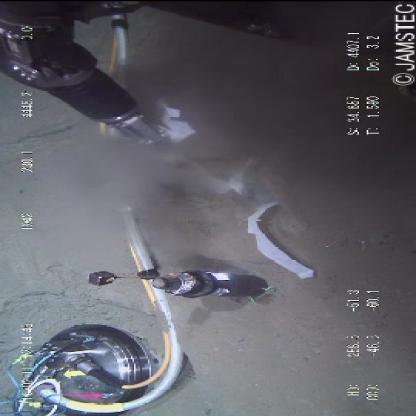Rov: (1, 1, 164, 144), (2, 320, 192, 416), (77, 262, 288, 306)
Rác: (152, 97, 318, 279)
